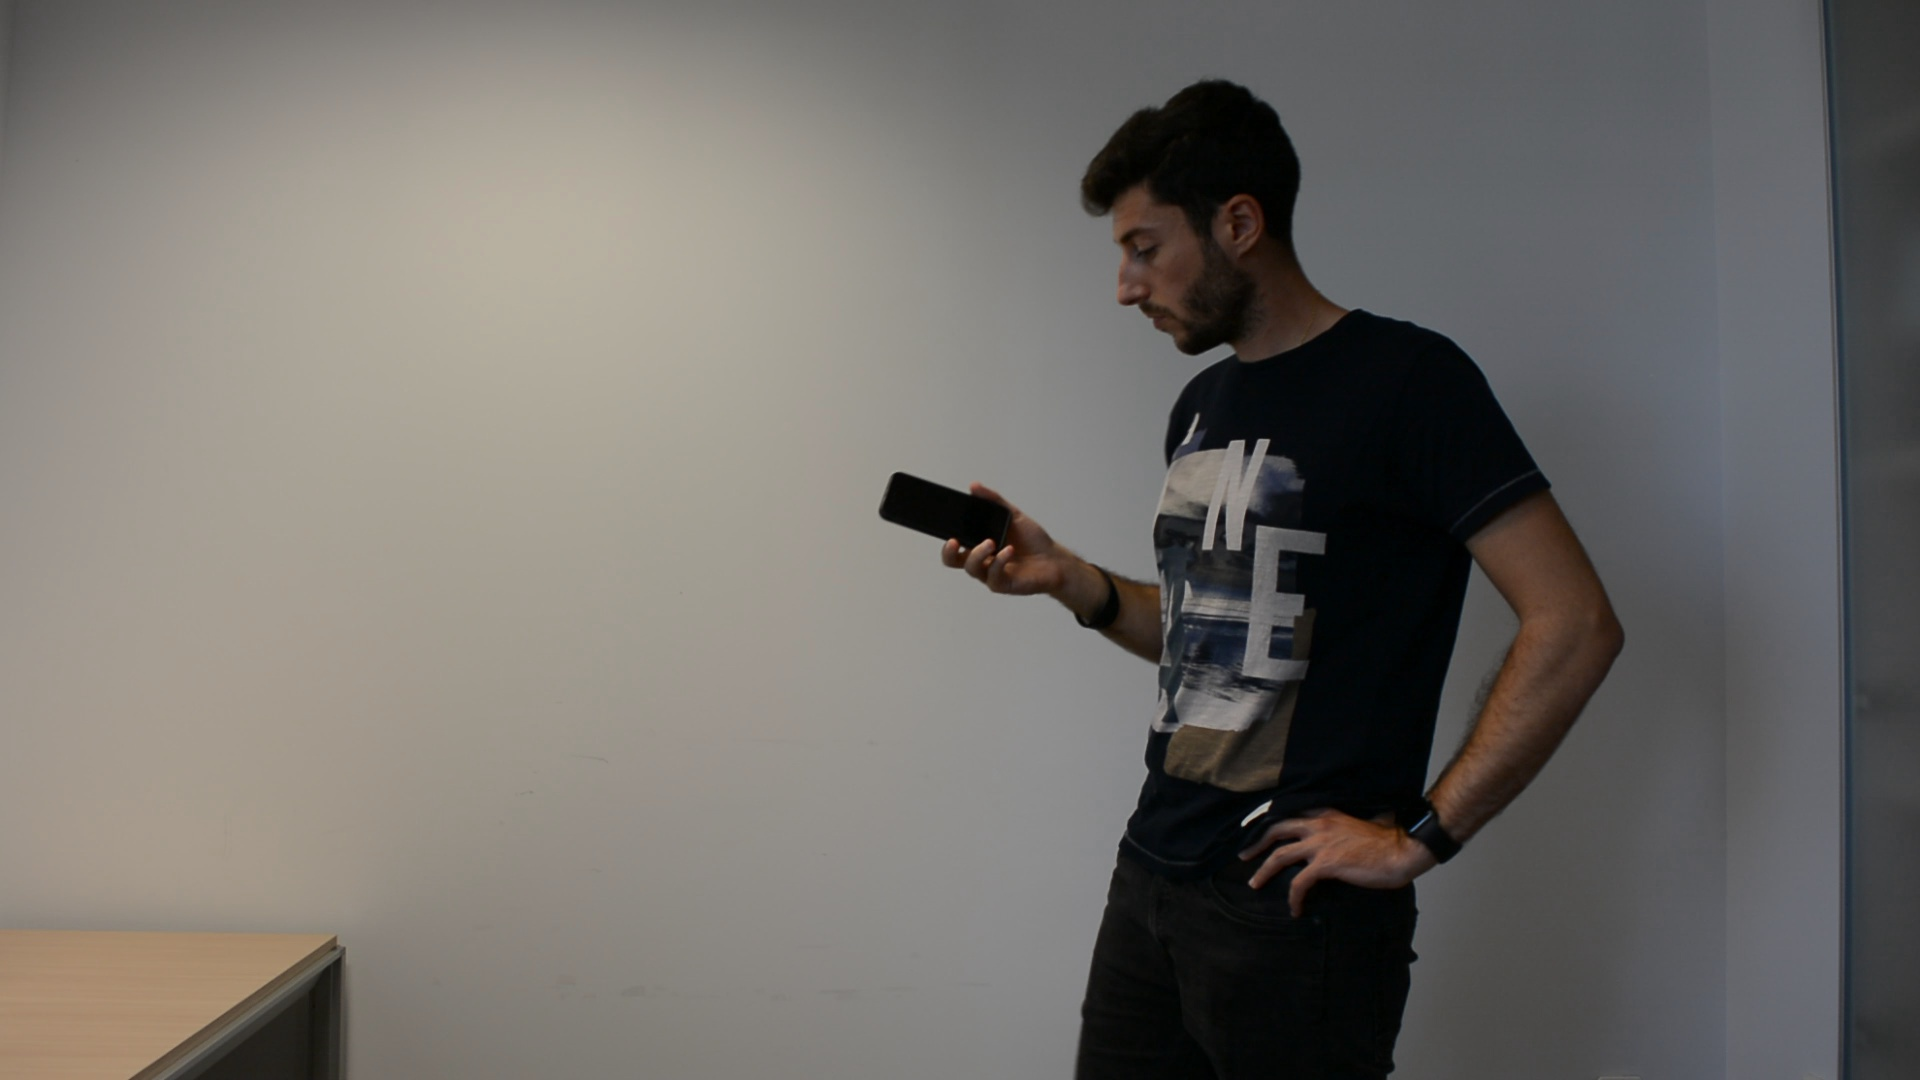smartphone: (876, 469, 1017, 563)
